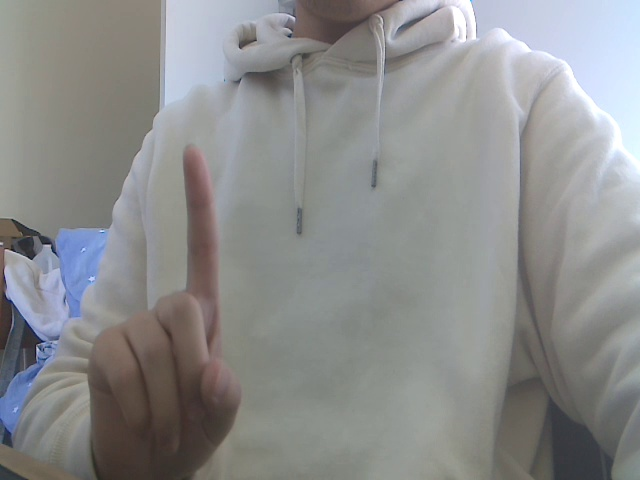hand_gesture_1: (56, 130, 267, 480)
